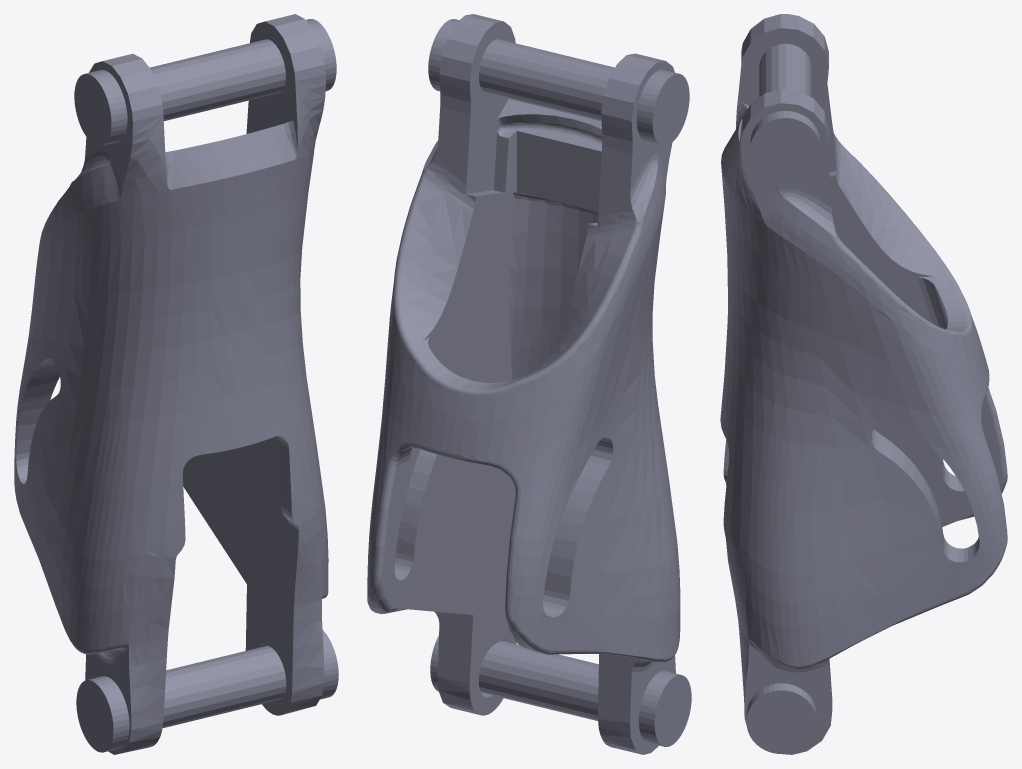
Rendered from hand1_link_2_1_visuals.obj.
3 renders of one model, left to right at view 1: azimuth 30°, elevation 25°; view 2: azimuth 150°, elevation 25°; view 3: azimuth 270°, elevation 25°, orthographic. The views are drawn at different scales.
Bounding box in the file's own units: 0.0151 × 0.0409 × 0.0163.
